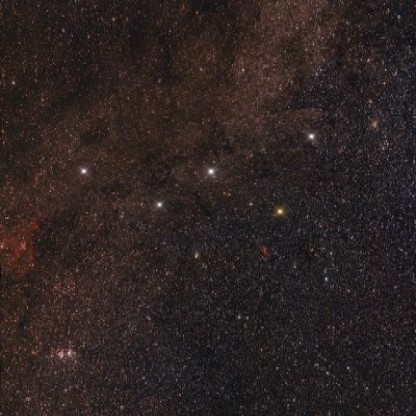Cassiopeia: (247, 194, 292, 227), (136, 189, 175, 226), (192, 152, 225, 183), (69, 157, 96, 180), (295, 124, 320, 147)
